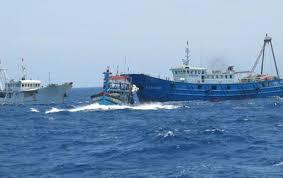Ship: (128, 35, 283, 102), (1, 59, 73, 106), (92, 68, 140, 106)
